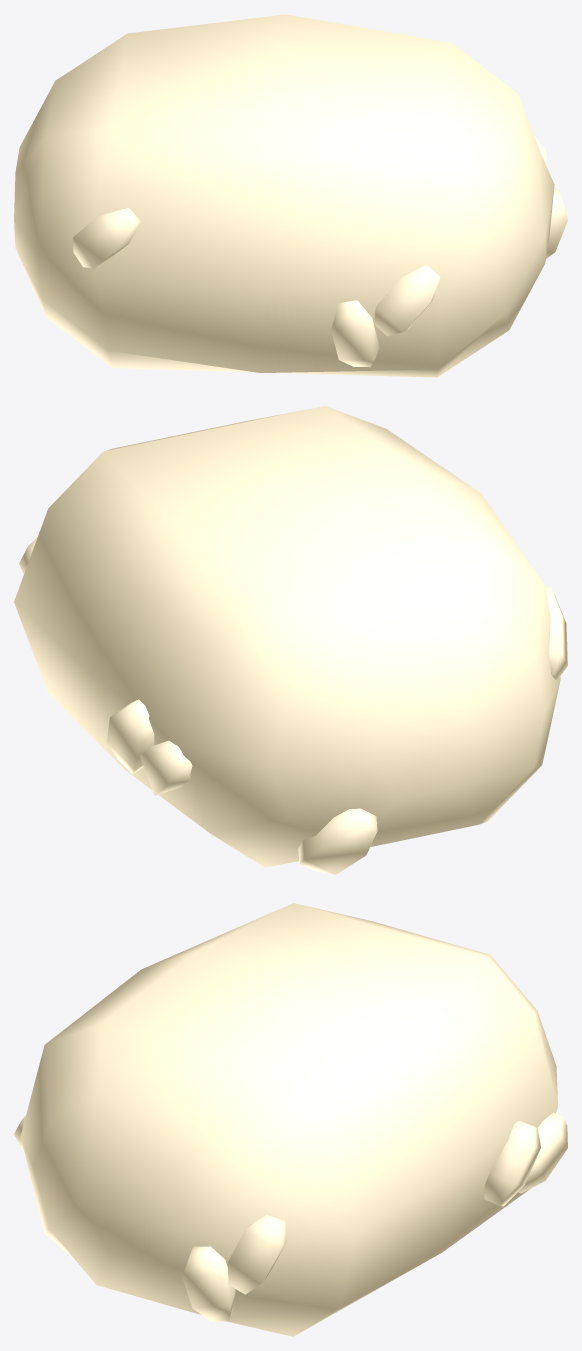
The model's file is Rice_ball.fbx.
3 renders of one model, top to bottom at view 1: azimuth 30°, elevation 25°; view 2: azimuth 150°, elevation 25°; view 3: azimuth 270°, elevation 25°, orthographic. The views are drawn at different scales.
Visible parts, largest first — view 1: Cube.005; view 2: Cube.005; view 3: Cube.005.
Part boxes in pixels (x1,y1,x2,y2): Cube.005: (14, 14, 567, 377); Cube.005: (14, 406, 567, 874); Cube.005: (14, 903, 567, 1336).
Bounding box in the file's own units: 17.1 × 8.68 × 16.01.
